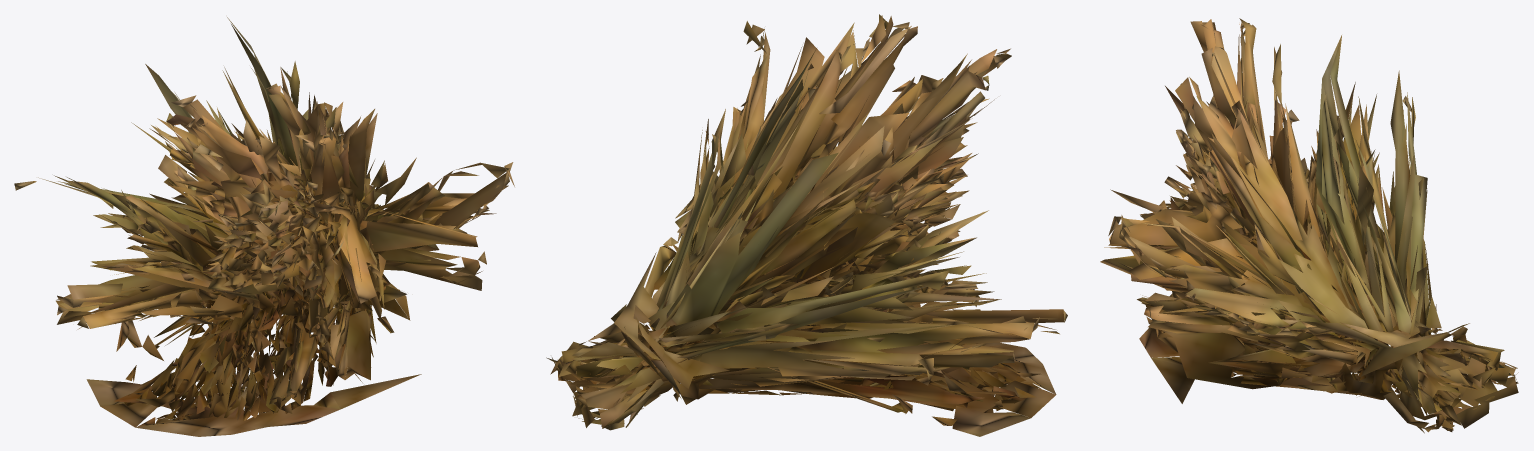
Rendered from mata_coiron.movil.glb.
3 renders of one model, left to right at view 1: azimuth 30°, elevation 25°; view 2: azimuth 150°, elevation 25°; view 3: azimuth 270°, elevation 25°, orthographic. The views are drawn at different scales.
Visible parts, largest first — view 1: geometry_0; view 2: geometry_0; view 3: geometry_0.
Boxes of the visible parts, box(x1,y1,x2,y2) form: geometry_0: box(14, 17, 514, 436); geometry_0: box(546, 14, 1067, 436); geometry_0: box(1100, 18, 1518, 433).
Bounding box in the file's own units: 0.7056 × 0.6069 × 0.701.
1 material, 1 textured.
